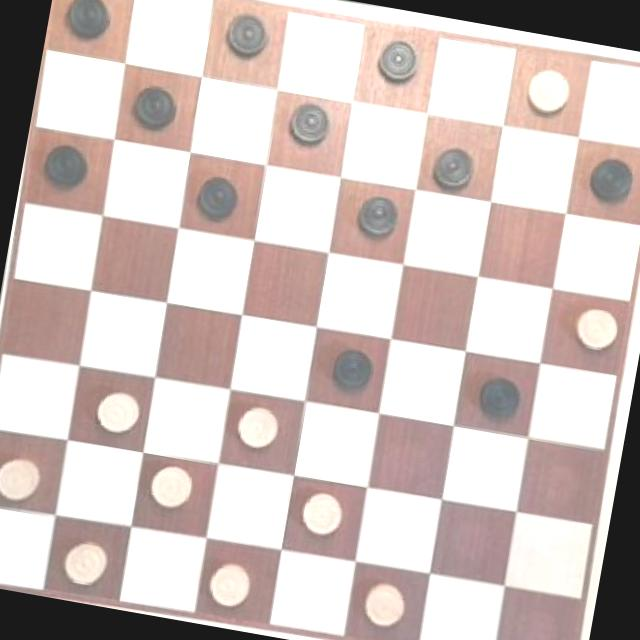BOARD: (0, 0, 640, 640)
black: (345, 183, 405, 240), (324, 341, 381, 398), (36, 138, 93, 194), (580, 149, 636, 204), (473, 364, 526, 422), (427, 138, 483, 192), (125, 78, 180, 132), (282, 94, 332, 150), (192, 167, 242, 223), (221, 5, 271, 60), (372, 36, 422, 82), (61, 0, 114, 43)
white: (292, 480, 351, 546), (200, 552, 258, 618), (86, 378, 144, 440), (0, 446, 52, 514), (520, 63, 576, 123), (56, 534, 113, 588), (568, 298, 620, 356), (358, 574, 410, 632), (142, 458, 194, 512), (232, 401, 284, 454)
